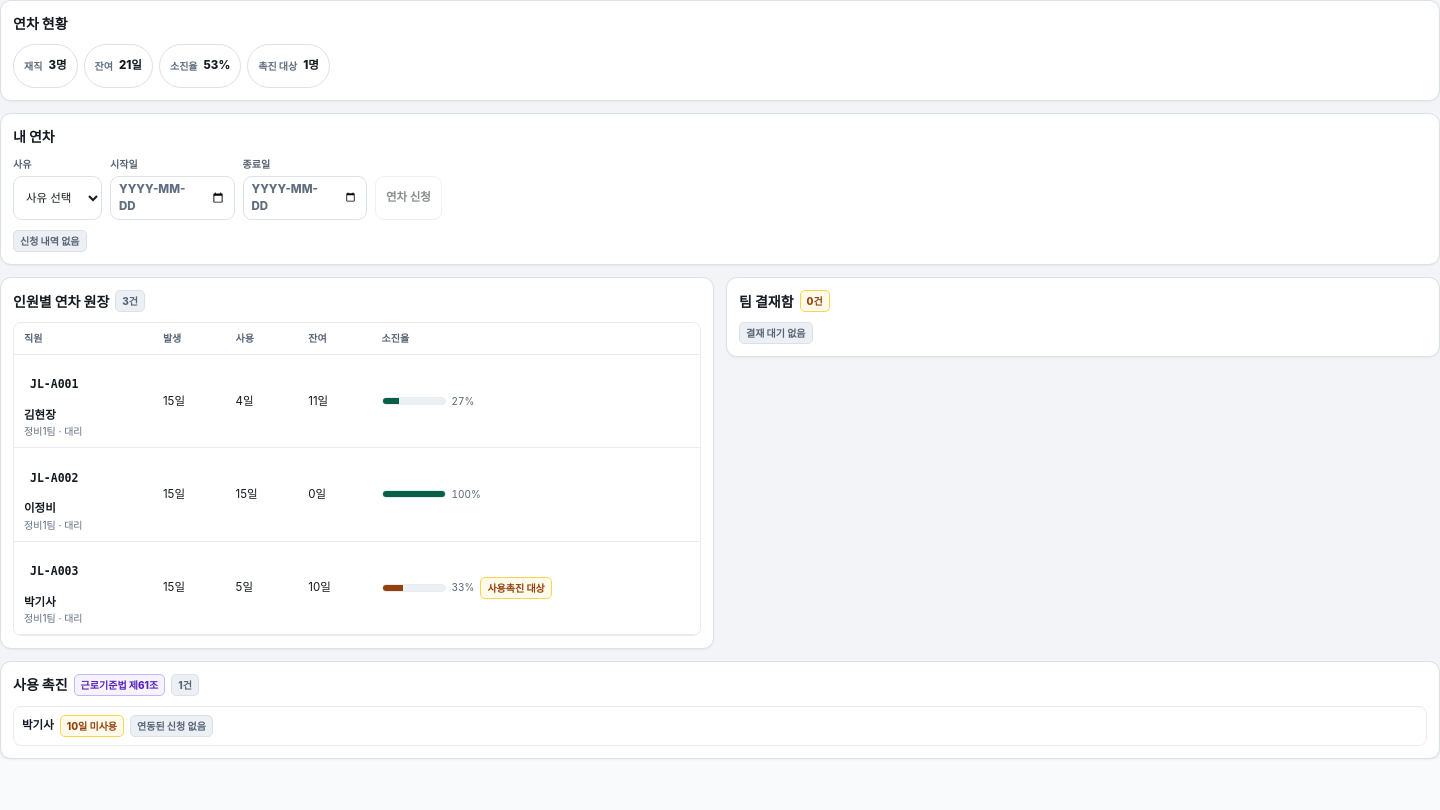
Test: LeaveConsole (레인1 leave 카드 존, real-wired) › 본인 신청: a valid 연차 form submits the derived self-service payload (subject/branch resolved server-side) and confirms
Step 1. Select "연차" in the dropdown labelled "사유" → [58, 198], box [13,176,102,220]
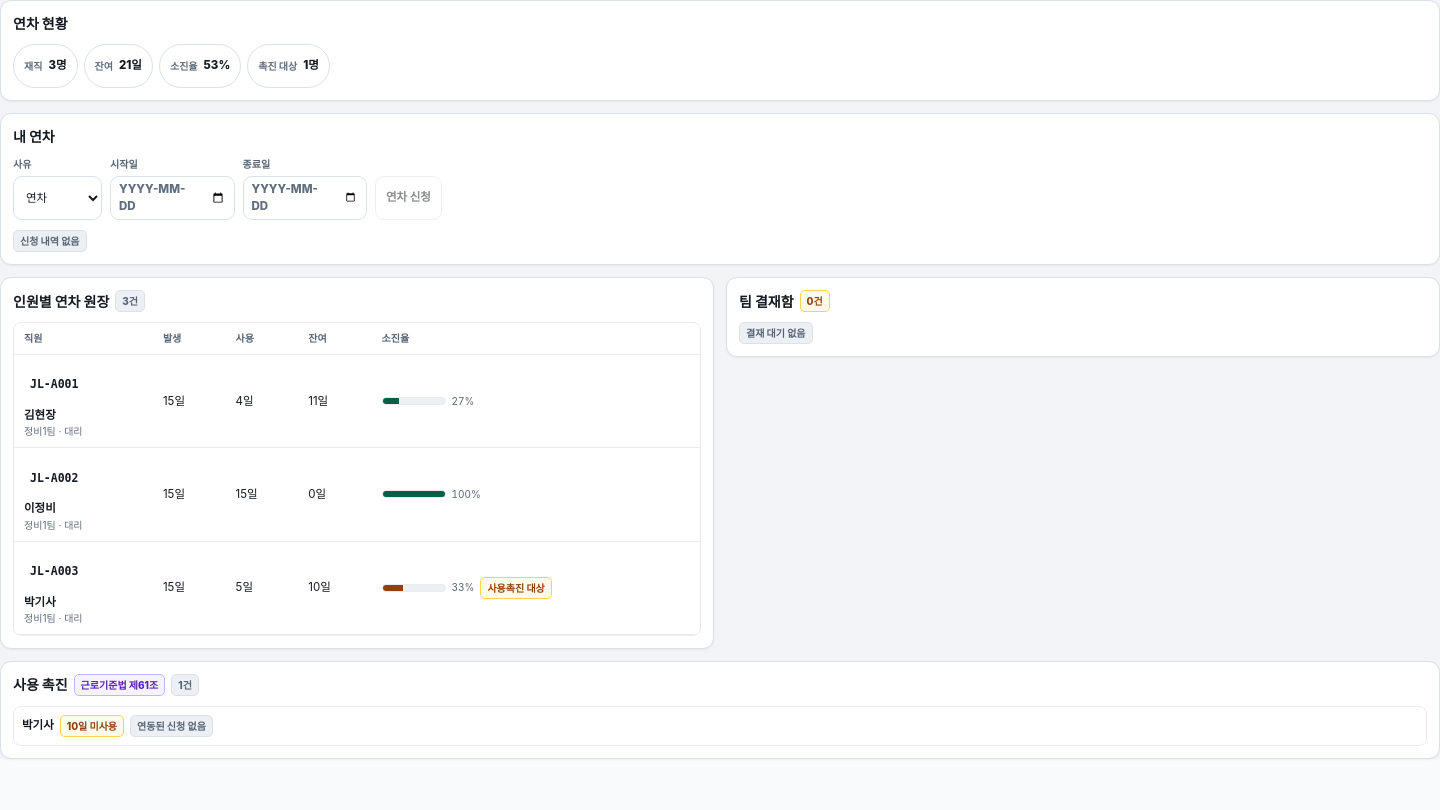
Step 2. Type "2026-07-06" into the date field labelled "시작일" → [172, 198], box [110,176,234,220]
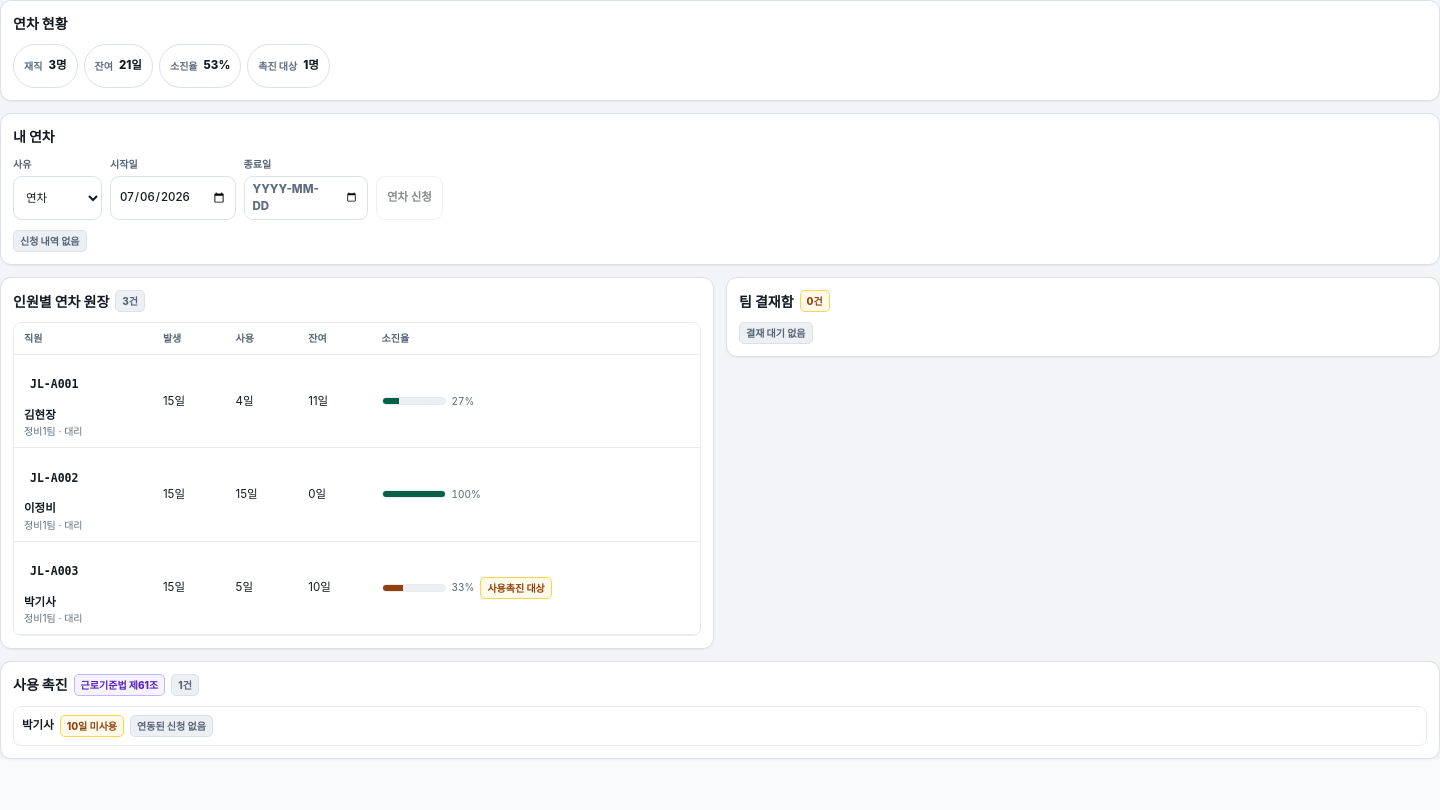
Step 3. Type "2026-07-08" into the date field labelled "종료일" → [306, 198], box [244,176,368,220]
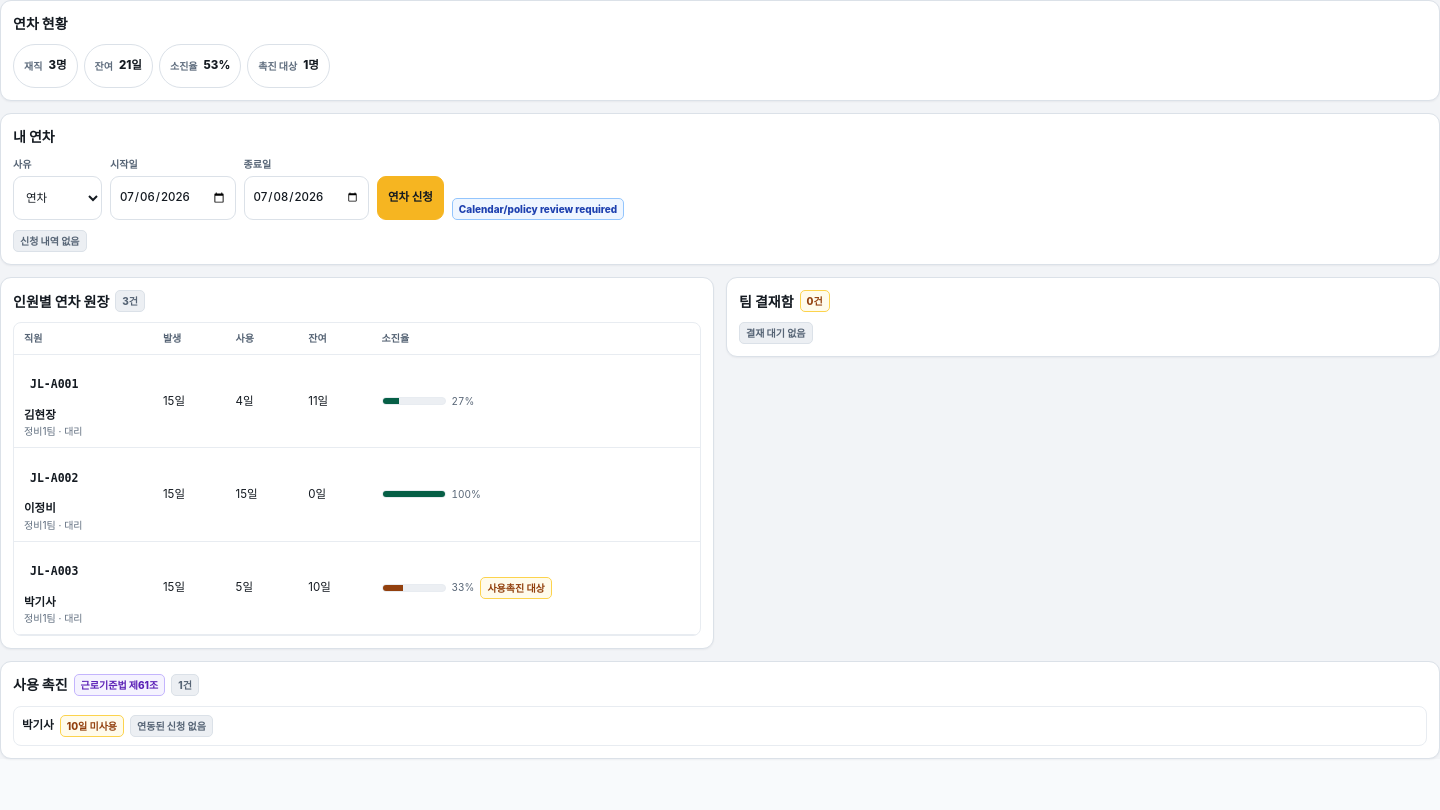
Step 4. Click the button "연차 신청" → [410, 198], box [377,176,444,220]
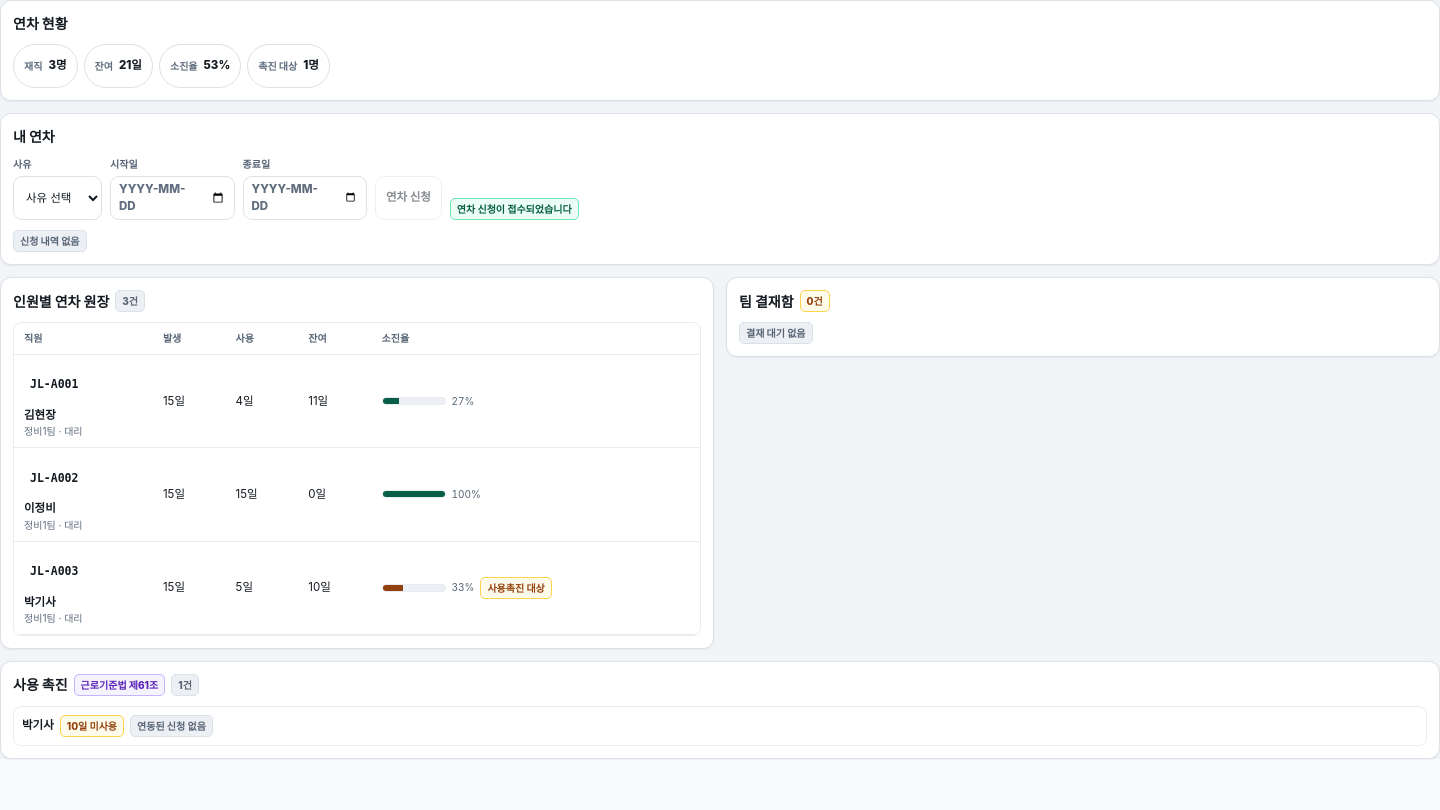
Result: the text "연차 신청이 접수되었습니다" is shown at [450,198,579,220]
